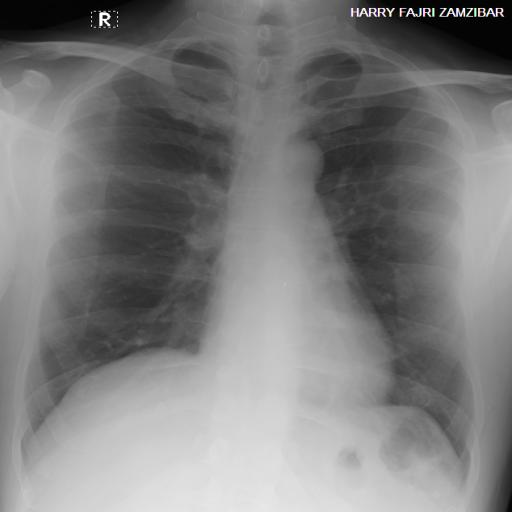normal: (12, 13, 510, 478)
